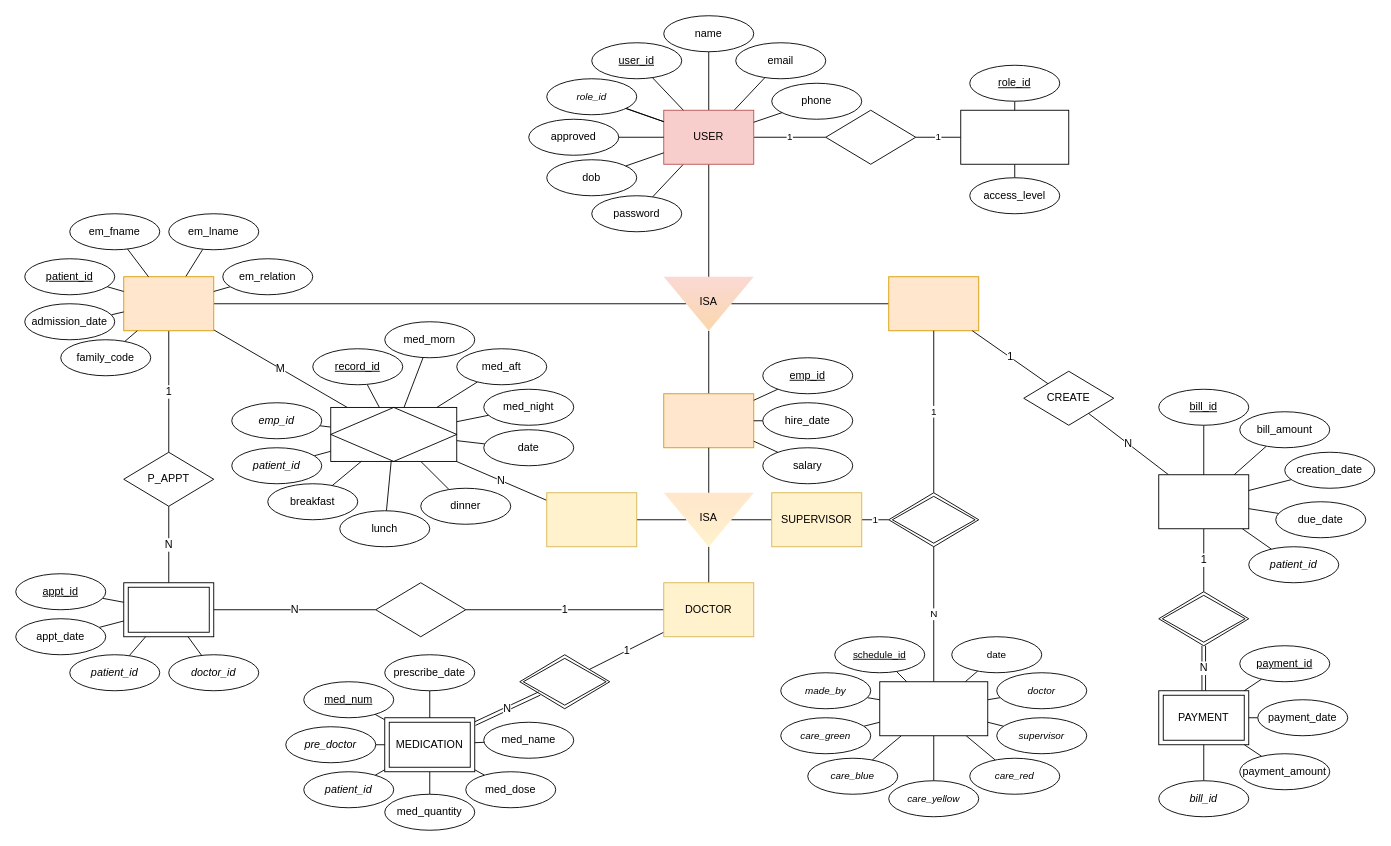
Image size: 1391x846. Some labels were removed from this diagram. Here are the shapes that lost their labels. From the top down, the box of each, then its label:
(825, 109, 916, 164): HAS
(960, 109, 1069, 164): ACCESS_ROLES
(123, 276, 214, 331): PATIENT
(888, 276, 979, 331): ADMIN
(330, 407, 457, 461): CARES_FOR
(663, 393, 754, 448): EMPLOYEE
(546, 492, 637, 547): CAREGIVER
(888, 492, 979, 547): SET
(1158, 474, 1249, 529): BILL
(123, 582, 214, 637): APPOINTMENT
(375, 582, 466, 637): D_APPT
(1158, 591, 1249, 646): BILL_PAY
(519, 654, 610, 709): PRESCRIBE
(879, 681, 988, 736): SCHEDULE
